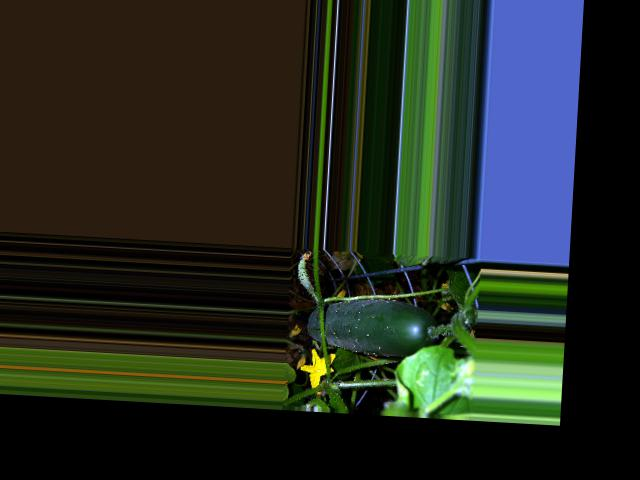cucumber: (306, 293, 439, 358)
